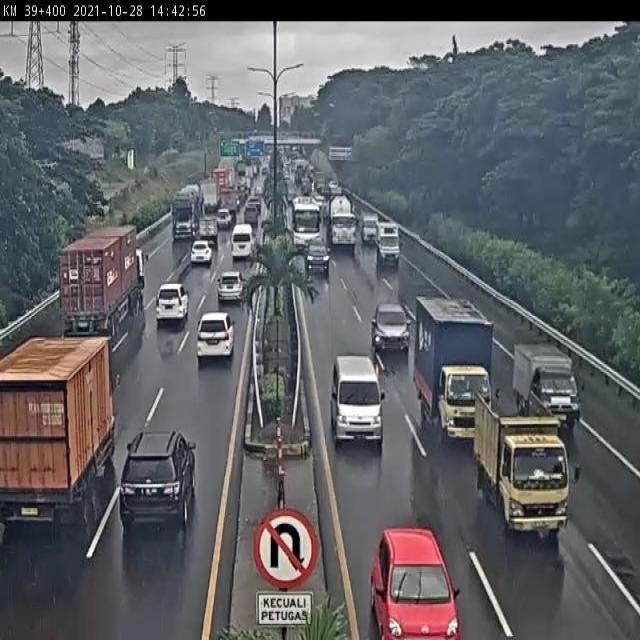ARABA: (121, 431, 197, 538), (194, 311, 238, 365), (371, 300, 411, 356), (155, 277, 191, 324), (305, 240, 331, 277), (217, 269, 245, 303), (232, 222, 255, 258), (191, 239, 215, 269)
KAMYONET: (474, 391, 571, 541), (414, 293, 496, 447), (512, 341, 582, 431), (376, 222, 401, 266)
OTOBUS: (329, 354, 388, 454)
TIR: (0, 334, 123, 530), (58, 224, 152, 351)
